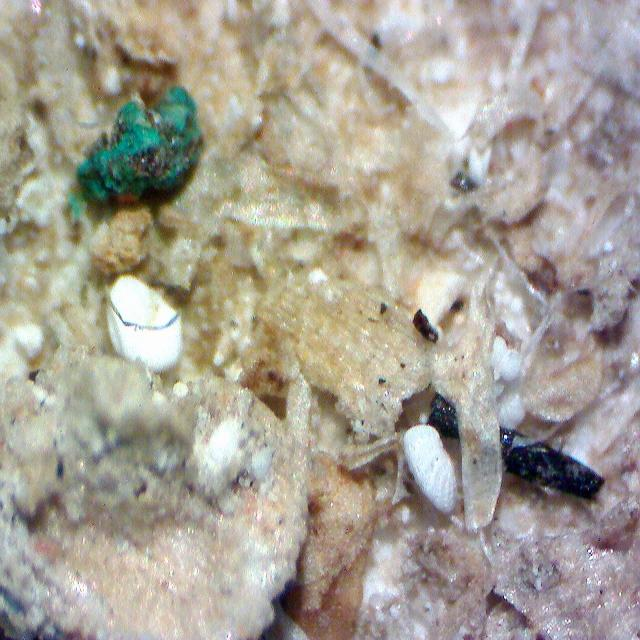microplastic: (63, 83, 216, 216)
